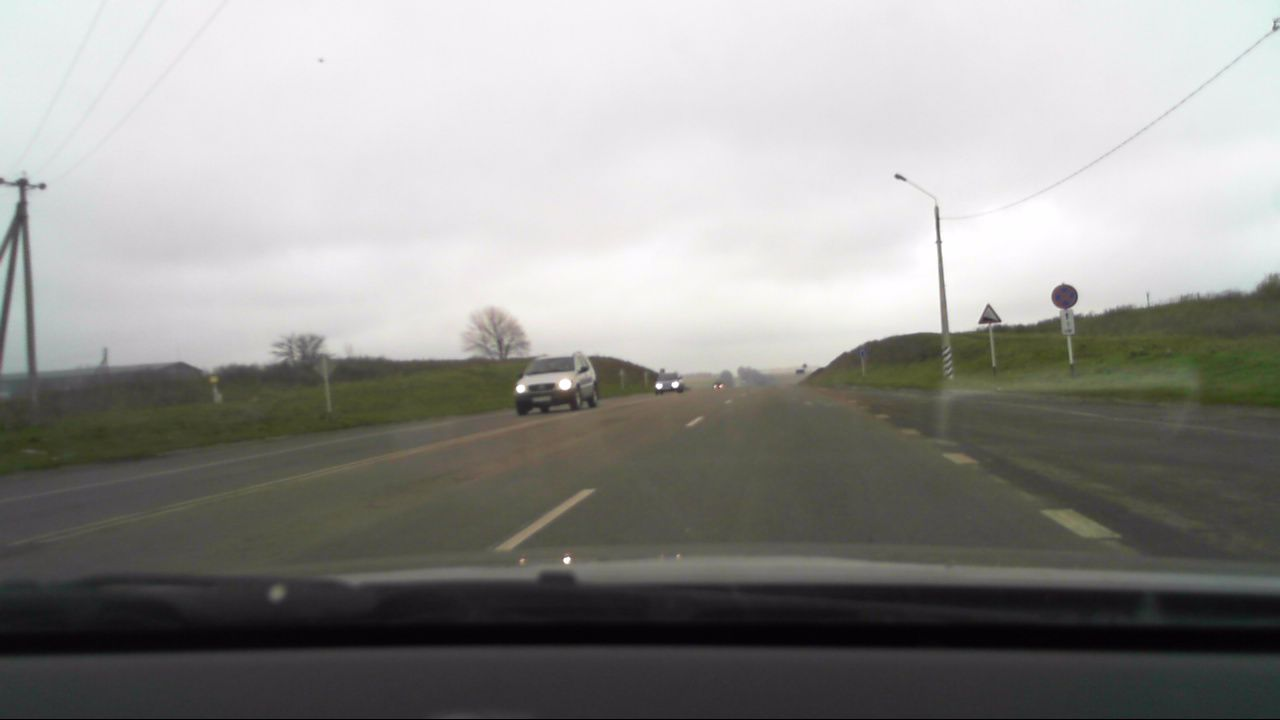No Parking: (1047, 280, 1077, 307)
